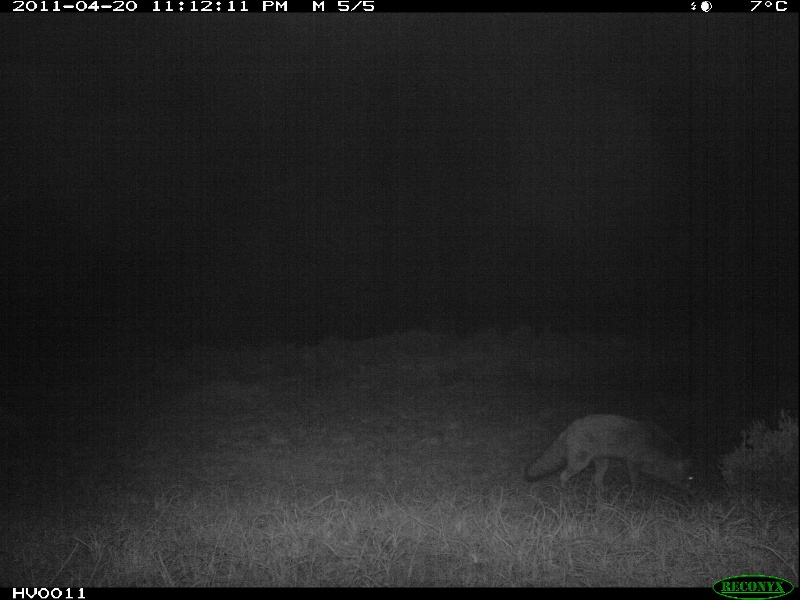fox: (521, 413, 712, 500)
